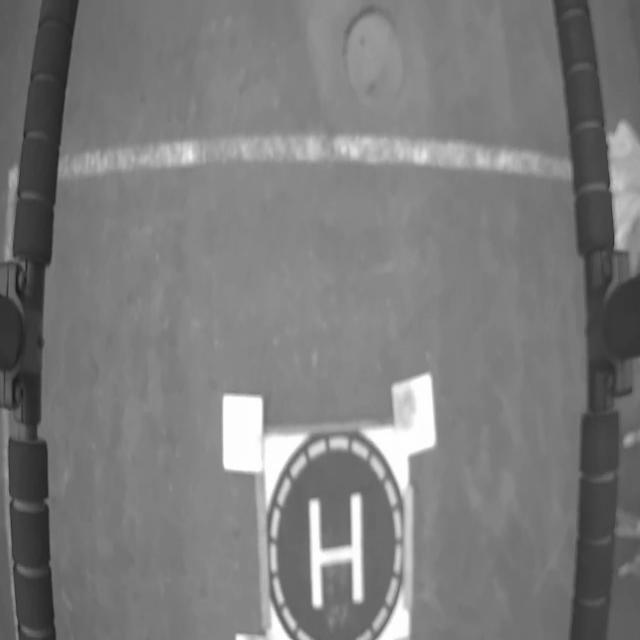Helipad: (310, 491, 364, 610)
